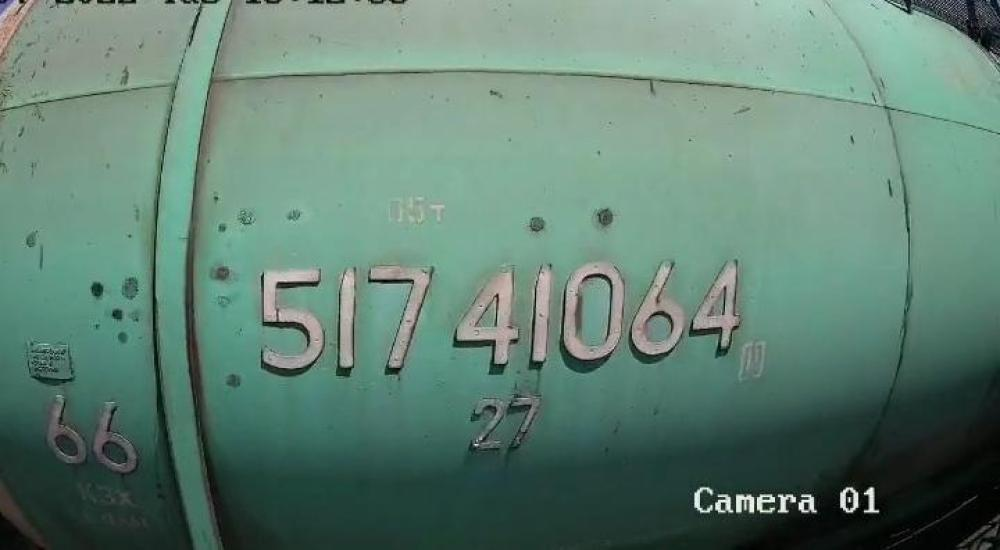Wagon-number: (255, 254, 754, 380)
